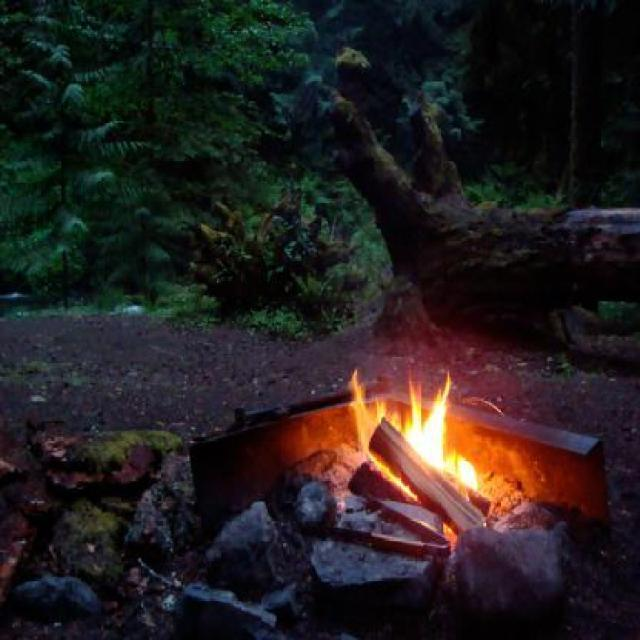Fire: (348, 362, 474, 485)
